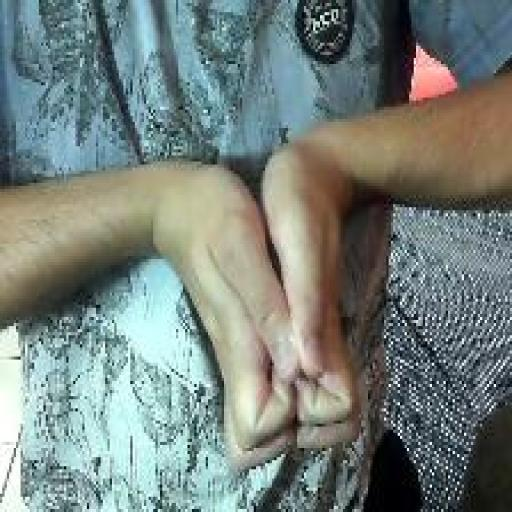I -boar-: (172, 142, 361, 477)
